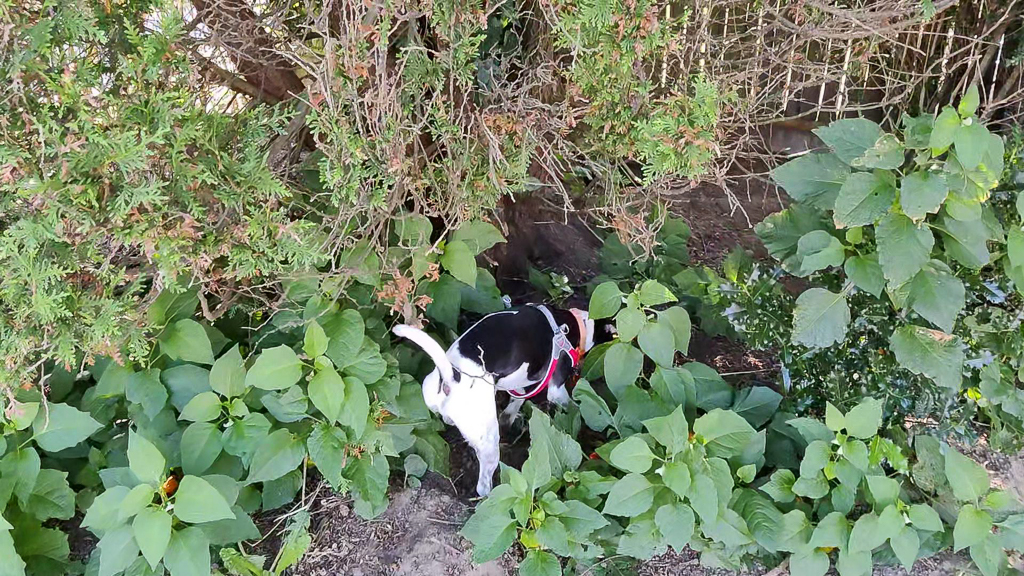Dog: (378, 267, 646, 510)
